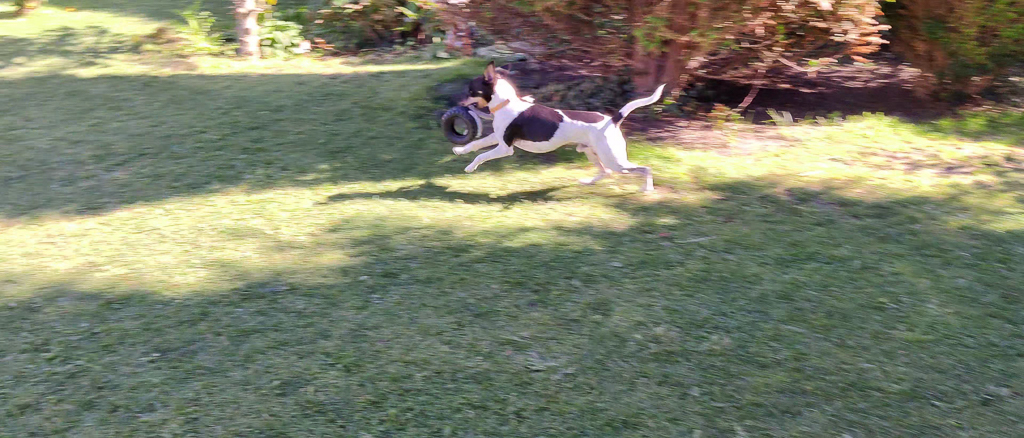Dog: (449, 51, 674, 203)
